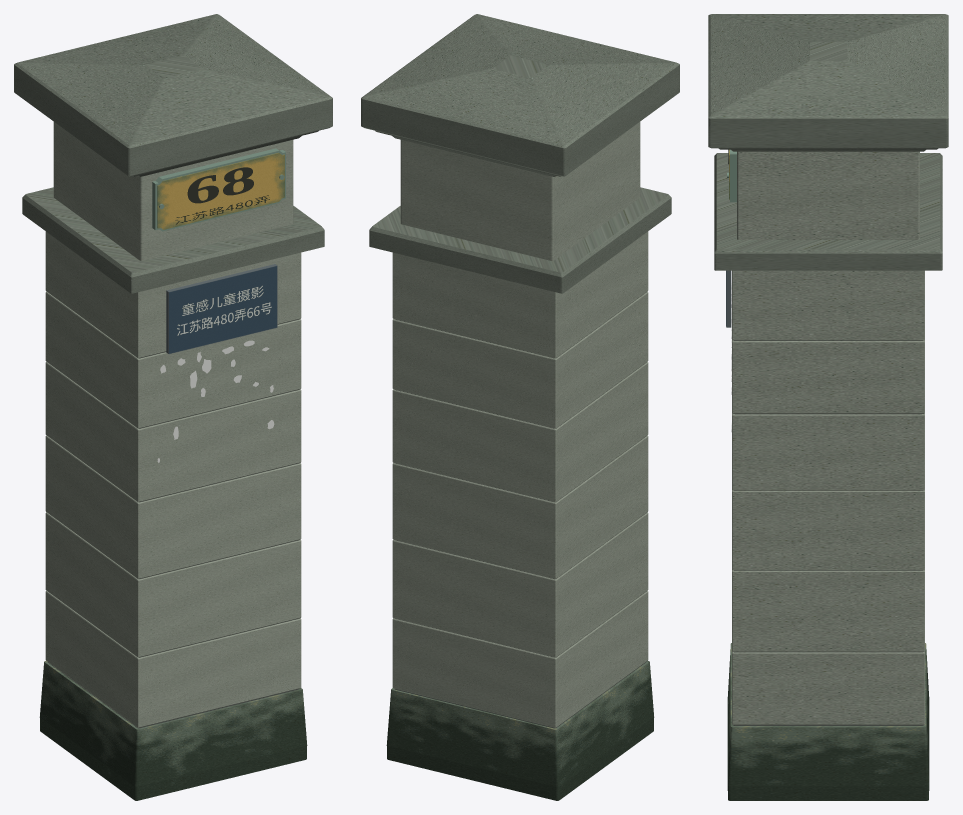
File: yuecun-pier-near.glb
3 renders of one model, left to right at view 1: azimuth 30°, elevation 25°; view 2: azimuth 150°, elevation 25°; view 3: azimuth 270°, elevation 25°, orthographic. The views are drawn at different scales.
Visible parts, largest first — view 1: 月村江苏路480弄双号牌门柱; view 2: 月村江苏路480弄双号牌门柱; view 3: 月村江苏路480弄双号牌门柱.
Boxes of the visible parts, <box> form: 月村江苏路480弄双号牌门柱: <box>14,14,332,800</box>; 月村江苏路480弄双号牌门柱: <box>361,14,679,800</box>; 月村江苏路480弄双号牌门柱: <box>708,14,948,800</box>.
Bounding box in the file's own units: 0.816 × 2.58 × 0.797.
Materials: 10 (5 with a texture image).
